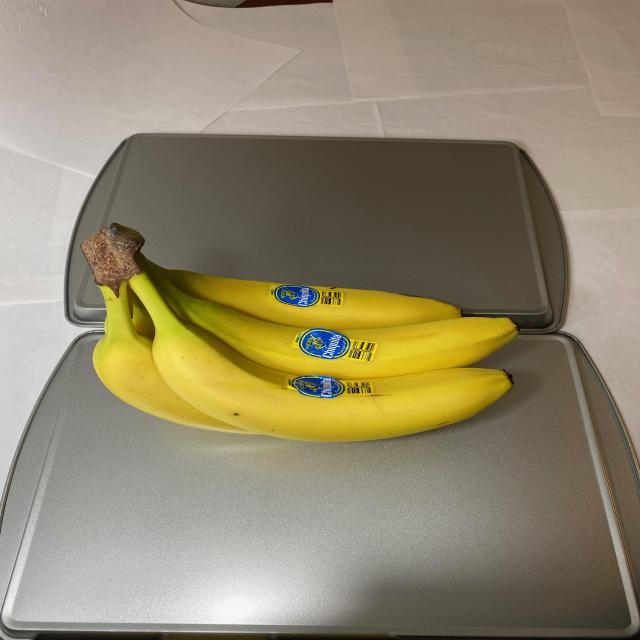banana: (72, 222, 521, 442)
